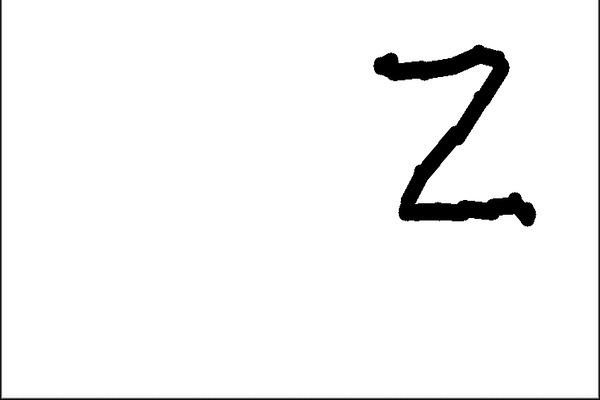Z: (360, 35, 541, 238)
